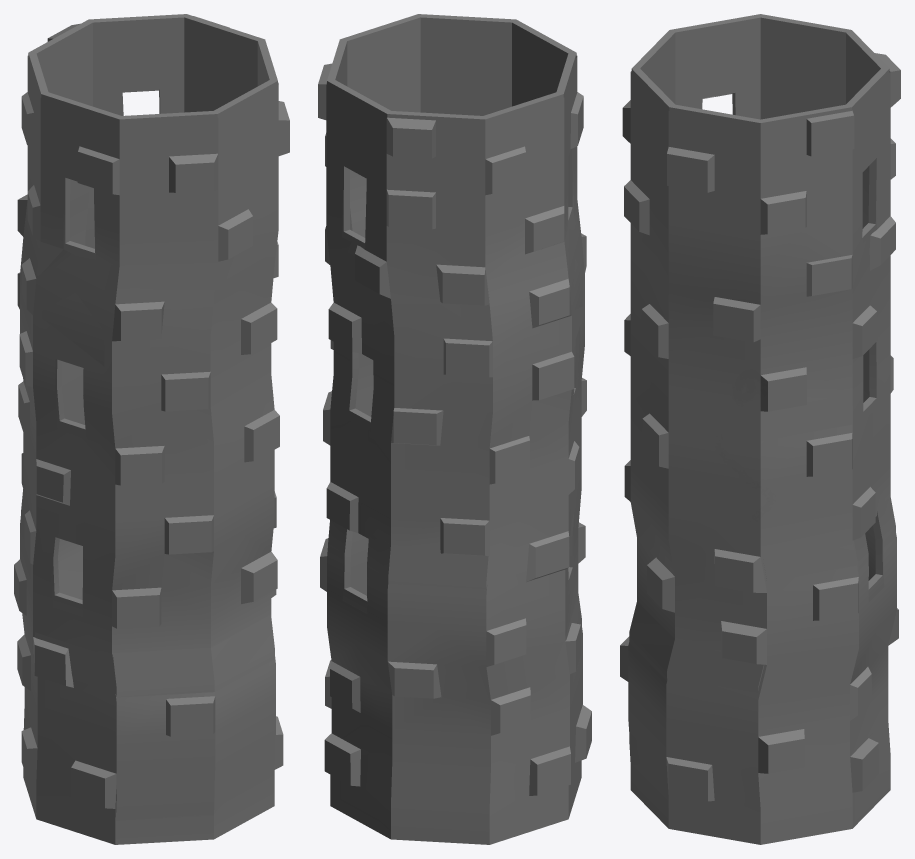
The model's file is Tower.fbx.
3 renders of one model, left to right at view 1: azimuth 30°, elevation 25°; view 2: azimuth 150°, elevation 25°; view 3: azimuth 270°, elevation 25°, orthographic.
Visible parts, largest first — view 1: pCylinder3; view 2: pCylinder3; view 3: pCylinder3.
Part boxes in pixels (bbox=[...]): pCylinder3: bbox=[14, 14, 289, 844]; pCylinder3: bbox=[318, 14, 591, 844]; pCylinder3: bbox=[620, 14, 900, 844].
Size of the model in its own units: 60.8 by 173 by 60.91.
Materials: 1 (1 with a texture image).
